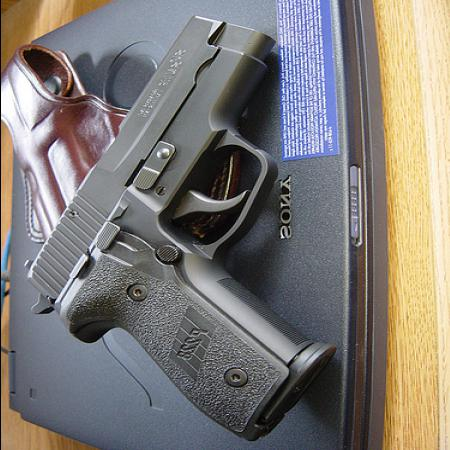Pistol: (23, 13, 335, 439)
